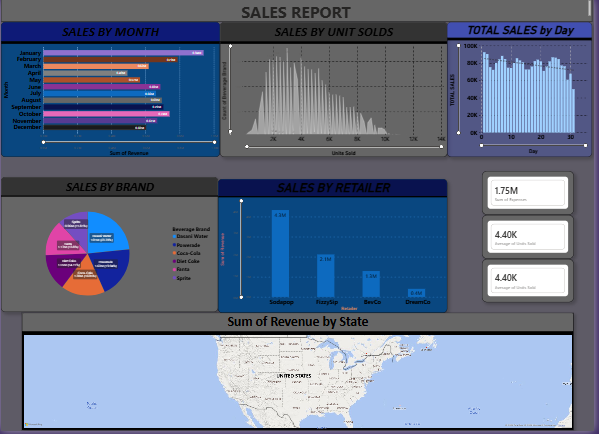

The page's visual inventory and layout, read from the dashboard file:
{"tool":"powerbi","page":{"name":"SALES REPORT","canvas":[2193,1600],"ordinal":0},"visuals":[{"type":"clusteredBarChart","title":"SALES BY  MONTH","fields":{"Category":["SALES DATA.Date.Variation.Date Hierarchy.Month"],"Y":["Sum(SALES DATA.Revenue)"]},"box":[0,84.2,811,500],"z":0},{"type":"pieChart","title":"SALES BY  BRAND","fields":{"Category":["SALES DATA.Beverage Brand"],"Y":["Sum(SALES DATA.Revenue)"]},"box":[0,659.6,804.3,500],"z":1000},{"type":"lineStackedColumnComboChart","title":"SALES BY RETAILER","fields":{"Category":["SALES DATA.Retailer"],"Y":["Sum(SALES DATA.Revenue)"]},"box":[804.3,666,848.9,495.7],"z":2000},{"type":"areaChart","title":"SALES BY UNIT SOLDS","fields":{"Category":["SALES DATA.Units Sold"],"Y":["CountNonNull(SALES DATA.Beverage Brand)"]},"box":[810.5,84.2,842.1,500],"z":3000},{"type":"clusteredColumnChart","fields":{"Category":["SALES DATA.Beverage Brand","SALES DATA.Region","SALES DATA.State","SALES DATA.Units Sold","SALES DATA.Date.Variation.Date Hierarchy.Year","SALES DATA.Date.Variation.Date Hierarchy.Quarter","SALES DATA.Date.Variation.Date Hierarchy.Month","SALES DATA.Date.Variation.Date Hierarchy.Day"],"Y":["SALES DATA.TOTAL SALES"]},"box":[1652.6,84.2,536.8,500],"z":4000},{"type":"map","fields":{"Category":["SALES DATA.State"],"Size":["Sum(SALES DATA.Revenue)"]},"box":[79.2,1162.5,2041.7,433.3],"z":4001},{"type":"cardVisual","fields":{"Data":["Sum(SALES DATA.Expenses)"]},"box":[1780.9,638.3,340.4,161.7],"z":4002},{"type":"cardVisual","fields":{"Data":["Avg(SALES DATA.Units Sold)"]},"box":[1780.9,800,340.4,161.7],"z":4003},{"type":"cardVisual","fields":{"Data":["Avg(SALES DATA.Units Sold)"]},"box":[1780.9,961.7,340.4,159.6],"z":4004},{"type":"textbox","box":[0,0,2190.3,83.9],"z":4005}]}

Visuals, with their boxes in screenshot pixels (x1, y1, x2, y2), scaled from the page's 2193x1600 canvas onto the 599x434 screenshot:
"SALES BY  MONTH" clusteredBarChart: l=0, t=23, r=222, b=158
"SALES BY  BRAND" pieChart: l=0, t=179, r=220, b=315
"SALES BY RETAILER" lineStackedColumnComboChart: l=220, t=181, r=452, b=315
"SALES BY UNIT SOLDS" areaChart: l=221, t=23, r=451, b=158
clusteredColumnChart - SALES DATA.Beverage Brand x SALES DATA.Region: l=451, t=23, r=598, b=158
map - SALES DATA.State x Sum(SALES DATA.Revenue): l=22, t=315, r=579, b=433
cardVisual - Sum(SALES DATA.Expenses): l=486, t=173, r=579, b=217
cardVisual - Avg(SALES DATA.Units Sold): l=486, t=217, r=579, b=261
cardVisual - Avg(SALES DATA.Units Sold): l=486, t=261, r=579, b=304
textbox: l=0, t=0, r=598, b=23
